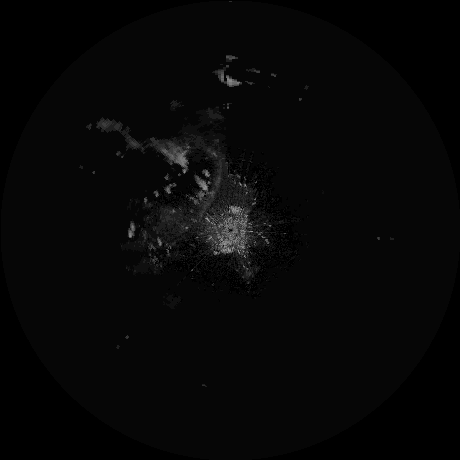frontgust: (197, 159, 225, 219)
